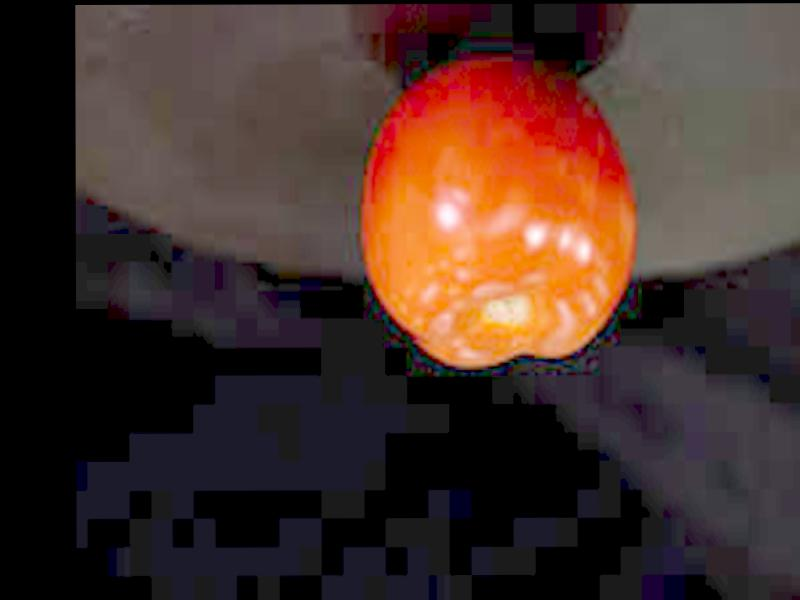Tomato: (357, 56, 638, 371)
